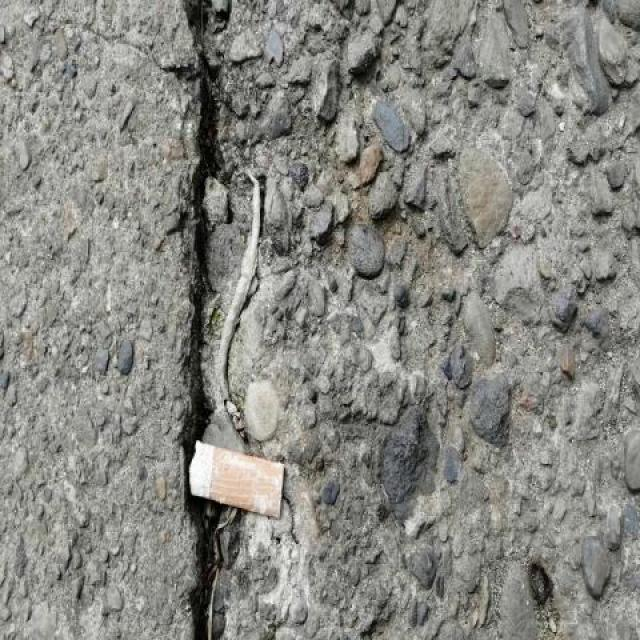non-organic waste: (183, 436, 288, 521)
